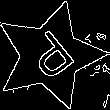P_SE: (19, 24, 81, 87)
